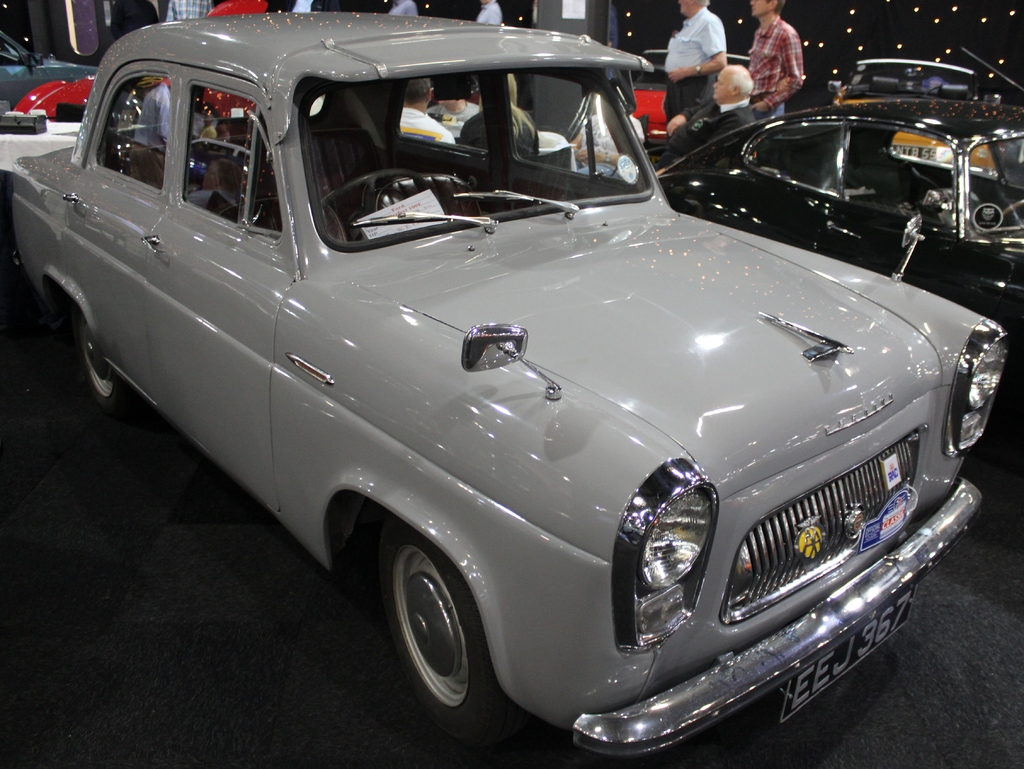mobil: (1, 13, 995, 750)
